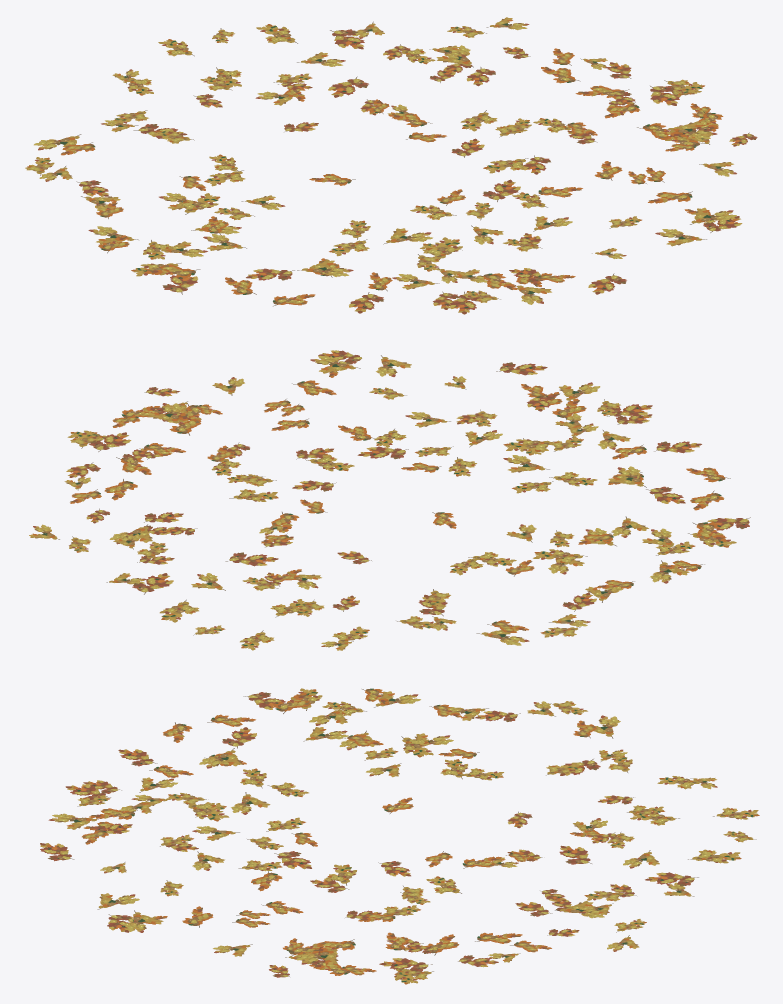
The model's file is poirier_adulte_a.fbx.
The picture shows the model from 3 angles, top to bottom: view 1: azimuth 30°, elevation 25°; view 2: azimuth 150°, elevation 25°; view 3: azimuth 270°, elevation 25°; orthographic projection. The views are drawn at different scales.
Parts seen in each view (by area): view 1: poirier_adulte_a_feuilles_sol; view 2: poirier_adulte_a_feuilles_sol; view 3: poirier_adulte_a_feuilles_sol.
Part boxes in pixels (box(x1,y1,x2,y2)): poirier_adulte_a_feuilles_sol: box(25, 17, 757, 314); poirier_adulte_a_feuilles_sol: box(29, 350, 750, 650); poirier_adulte_a_feuilles_sol: box(40, 688, 759, 984).
Size of what is drawn, in the model's own units: 5.45 by 0.00598 by 5.68.
